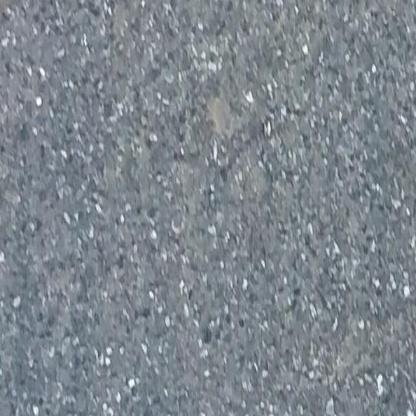Cracks: (0, 0, 48, 37)
